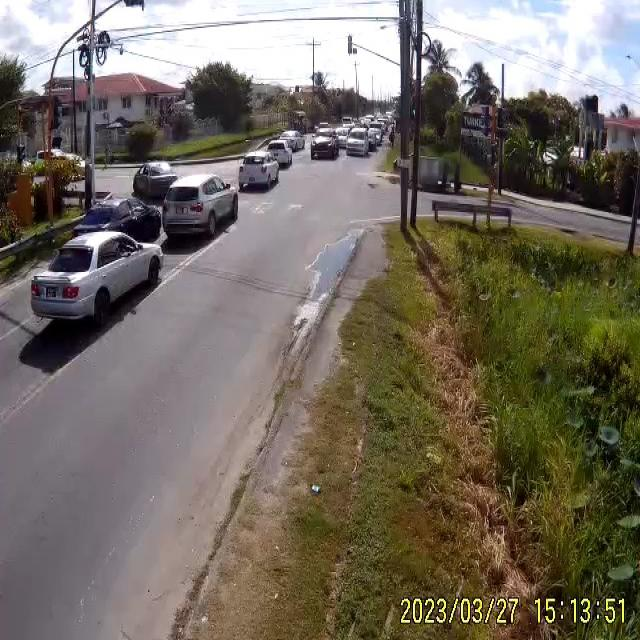car: (28, 233, 163, 330), (161, 173, 238, 241), (72, 198, 166, 250), (132, 161, 178, 199), (238, 152, 279, 192), (266, 141, 294, 169), (309, 134, 339, 158), (344, 134, 368, 155), (281, 130, 304, 151), (366, 126, 384, 148)
